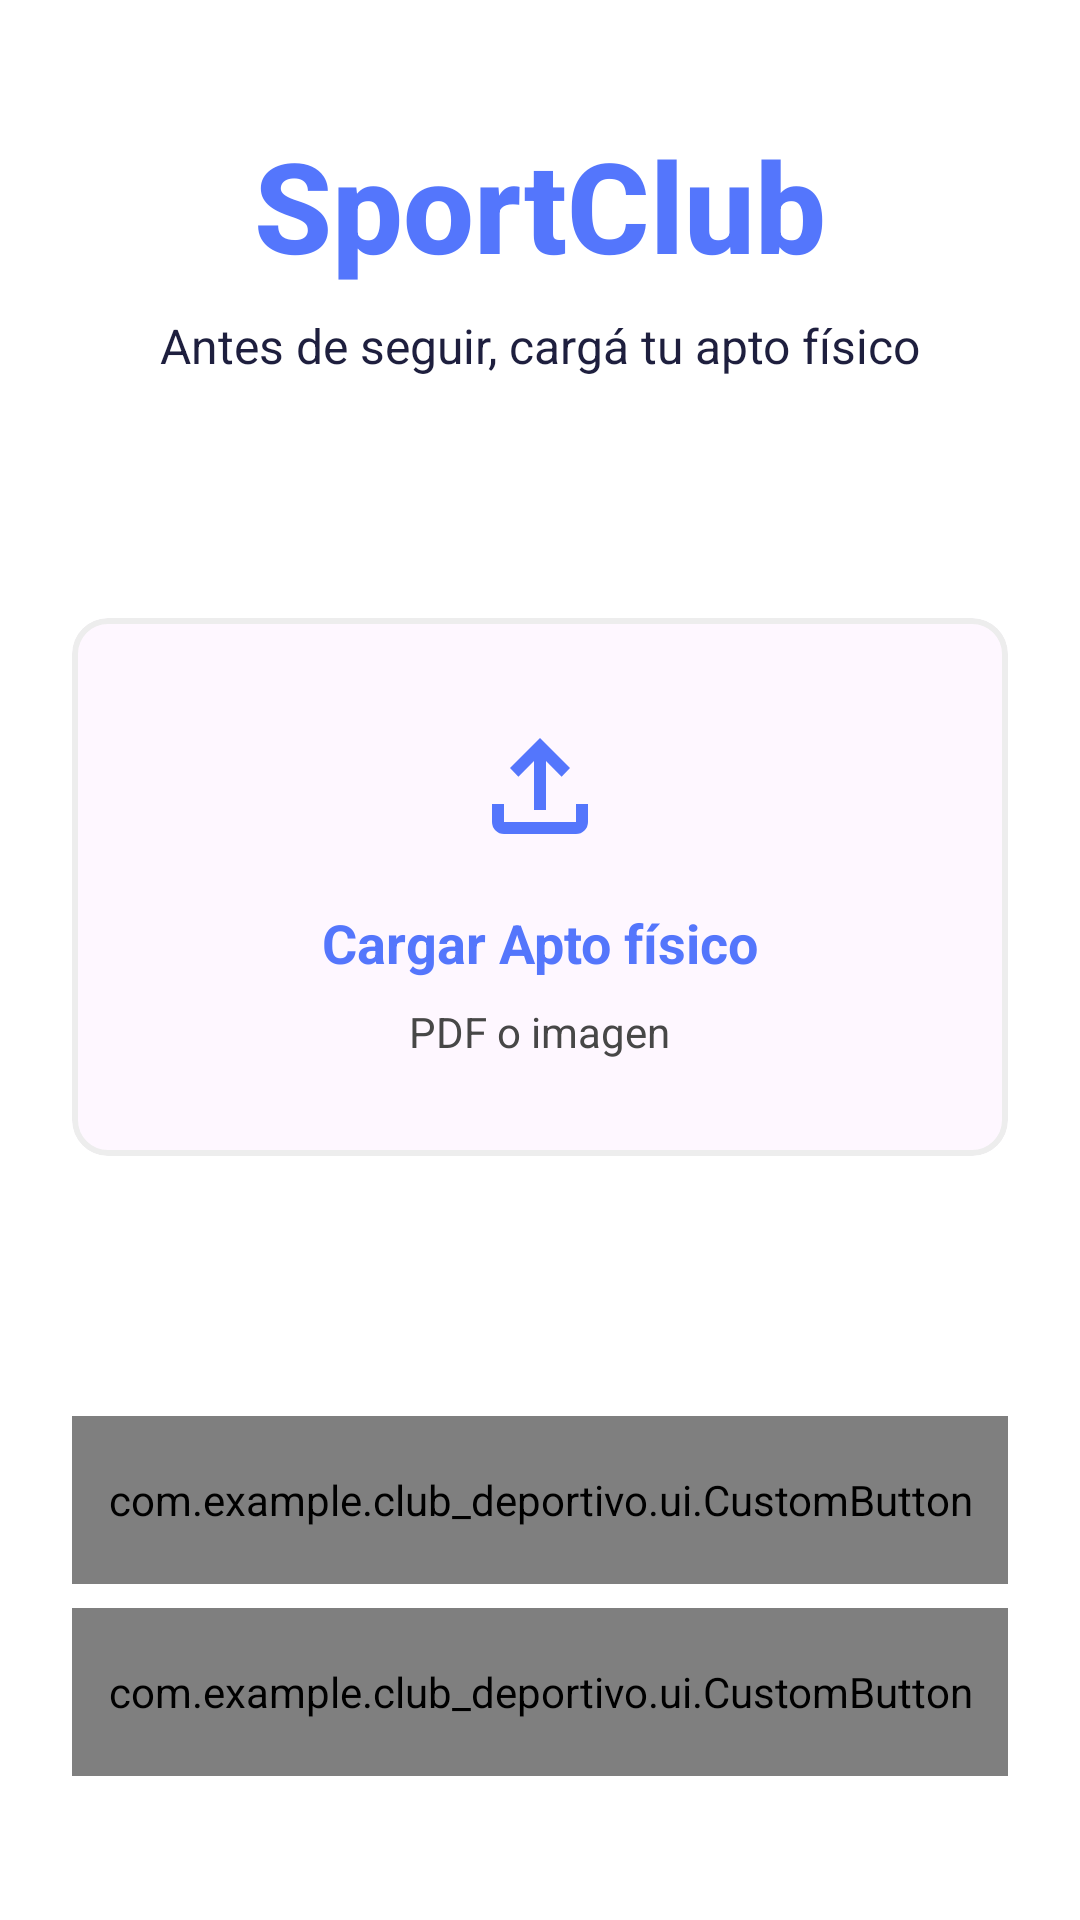

Icon click points for this 1080px x 1920px phone screenshot, format (x,y):
Upload icon: (540,786)
